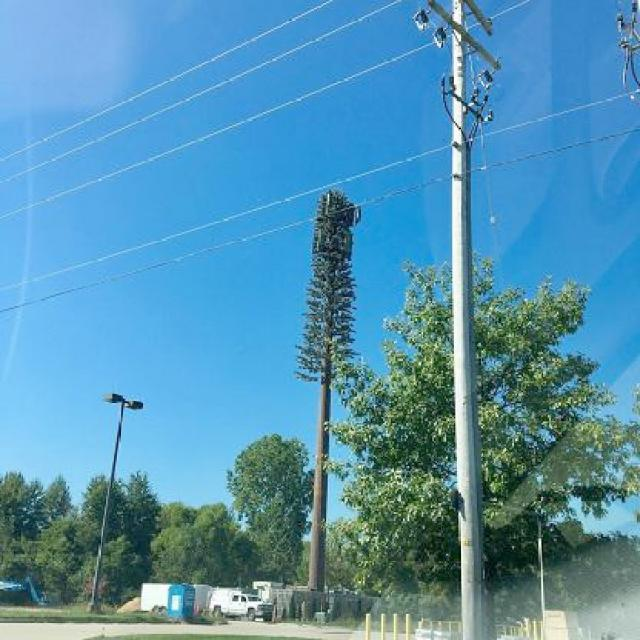crossarm: (428, 0, 502, 71), (449, 86, 494, 123), (462, 0, 494, 37)
pole: (452, 0, 489, 640)
wire: (0, 88, 639, 295), (0, 124, 640, 314), (0, 0, 534, 220), (0, 0, 403, 187), (0, 0, 334, 165)
